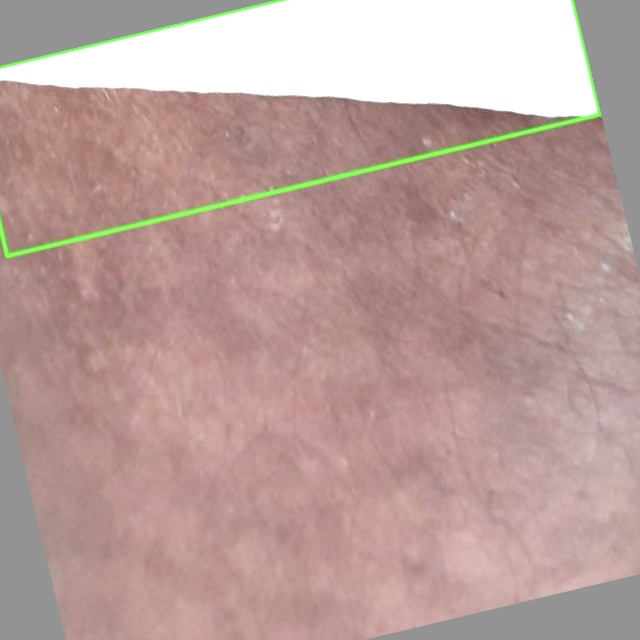Contact Dermatitis: (0, 0, 600, 256)
